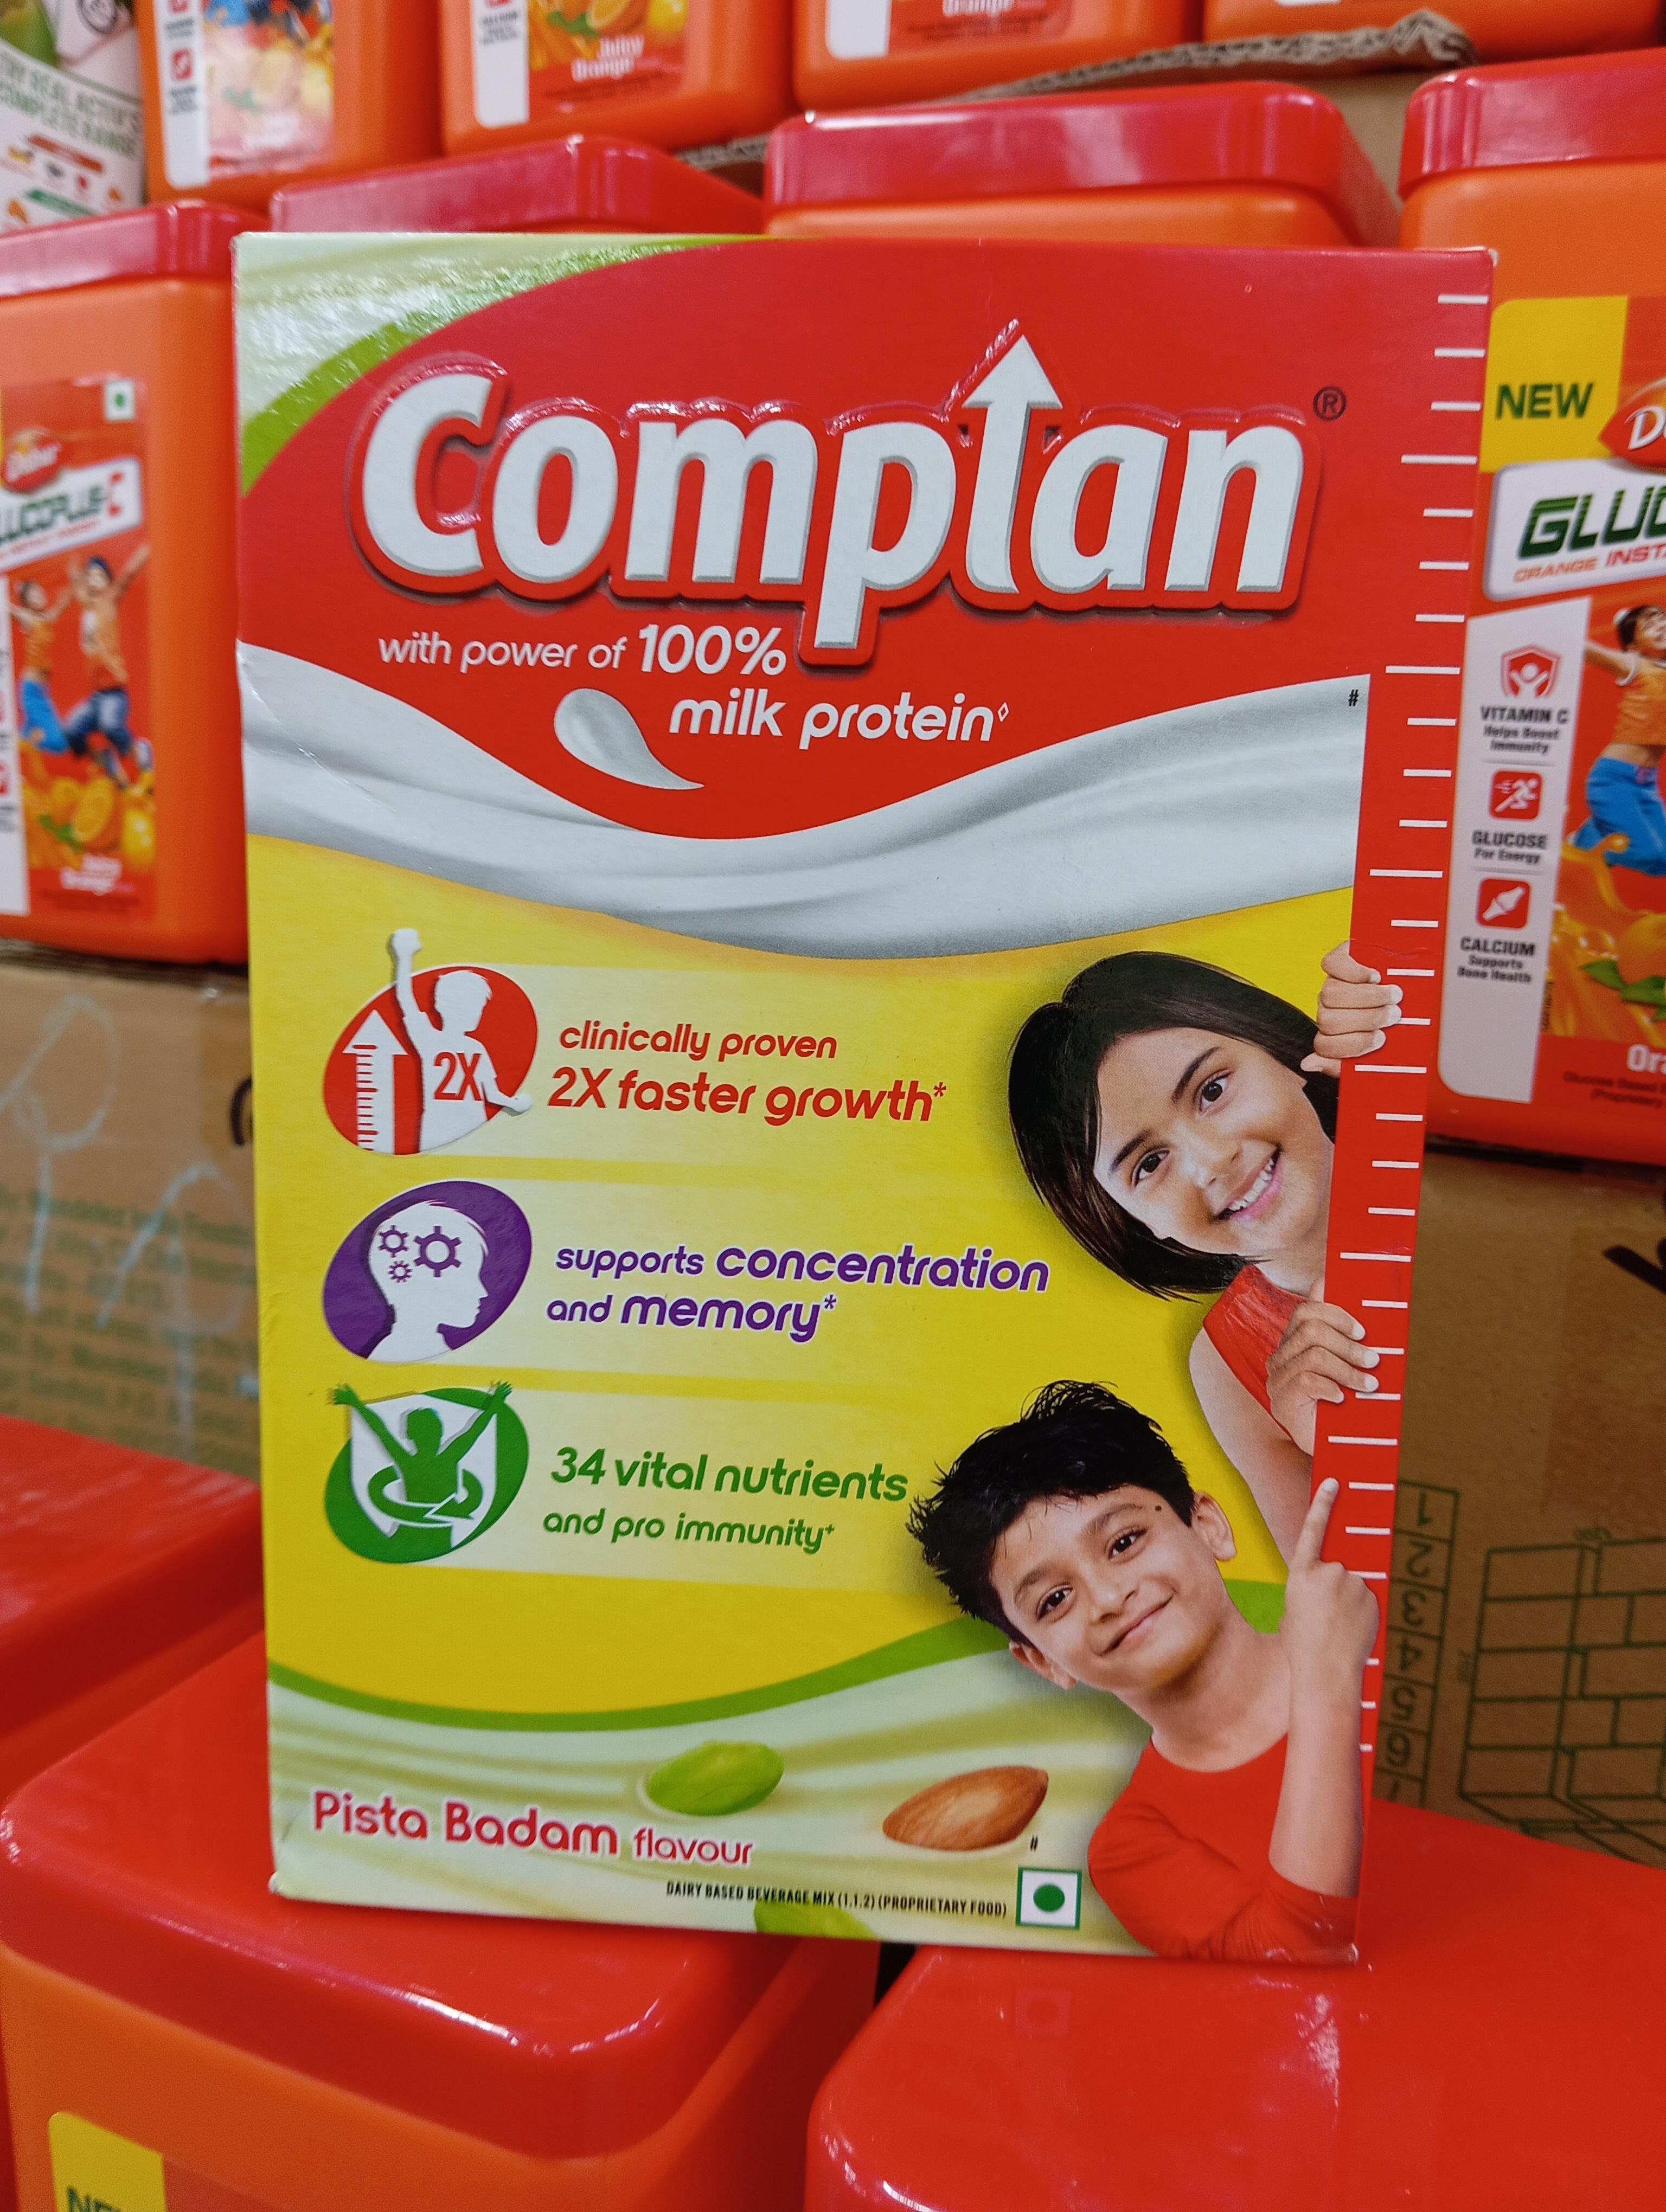COMPLAN_PISTA_BADAM_500_GMS_PACK: (250, 222, 1346, 1967)
